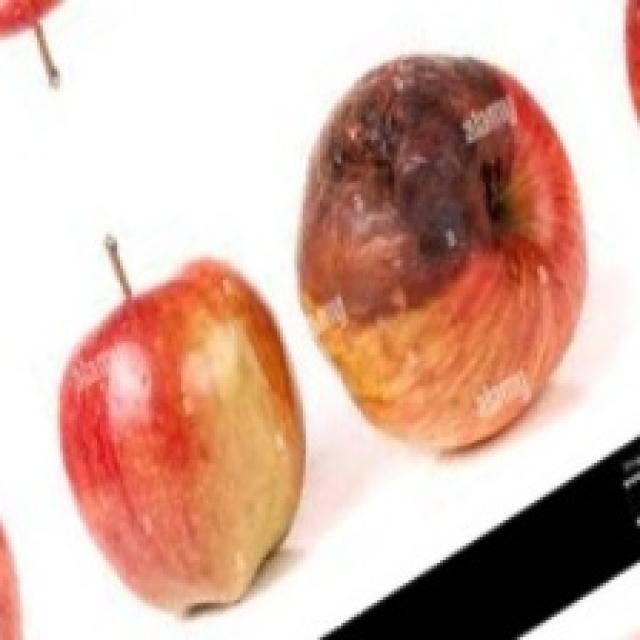rotten_apple: (315, 58, 578, 447)
